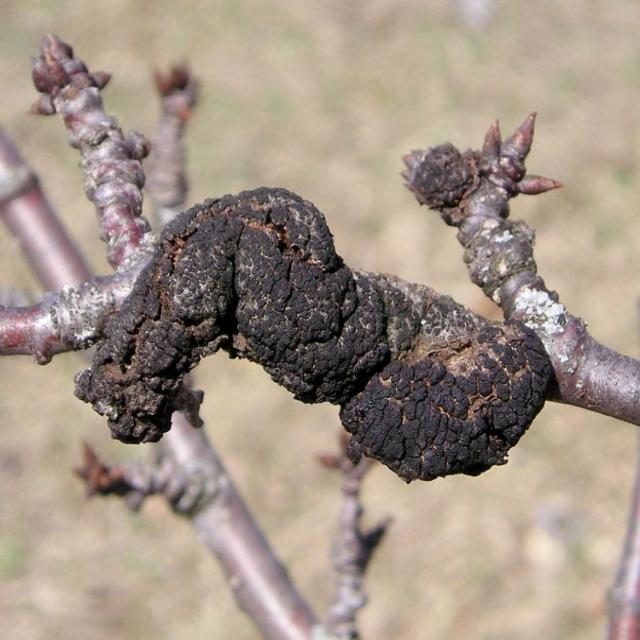Black_knot: (71, 183, 554, 484), (338, 314, 553, 484)
